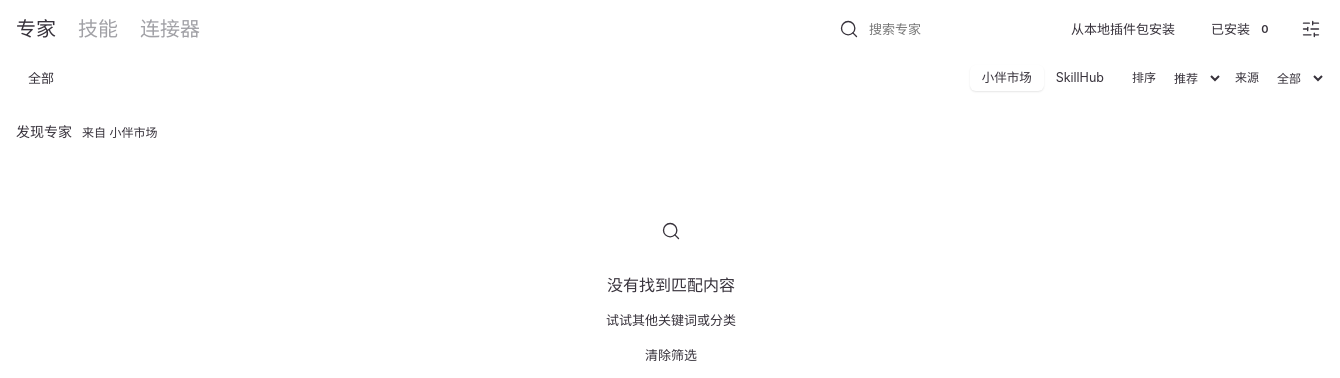
Scenario: 小伴市场 › does not treat "no such item" as the market being down
Click the tab with id "store-tab-skills".
click(98, 29)  # box x1=78 y1=16 x2=118 y2=42
Wait 300 ms
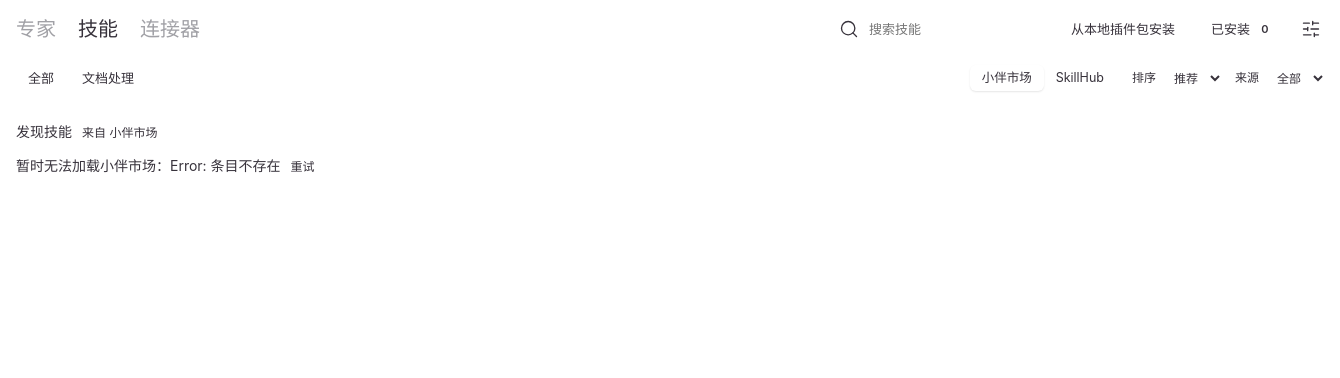
Now the text "暂时无法加载小伴市场：" is shown, box x1=16 y1=157 x2=284 y2=174
